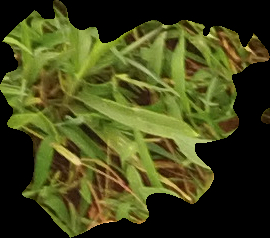grass: (1, 1, 268, 236)
